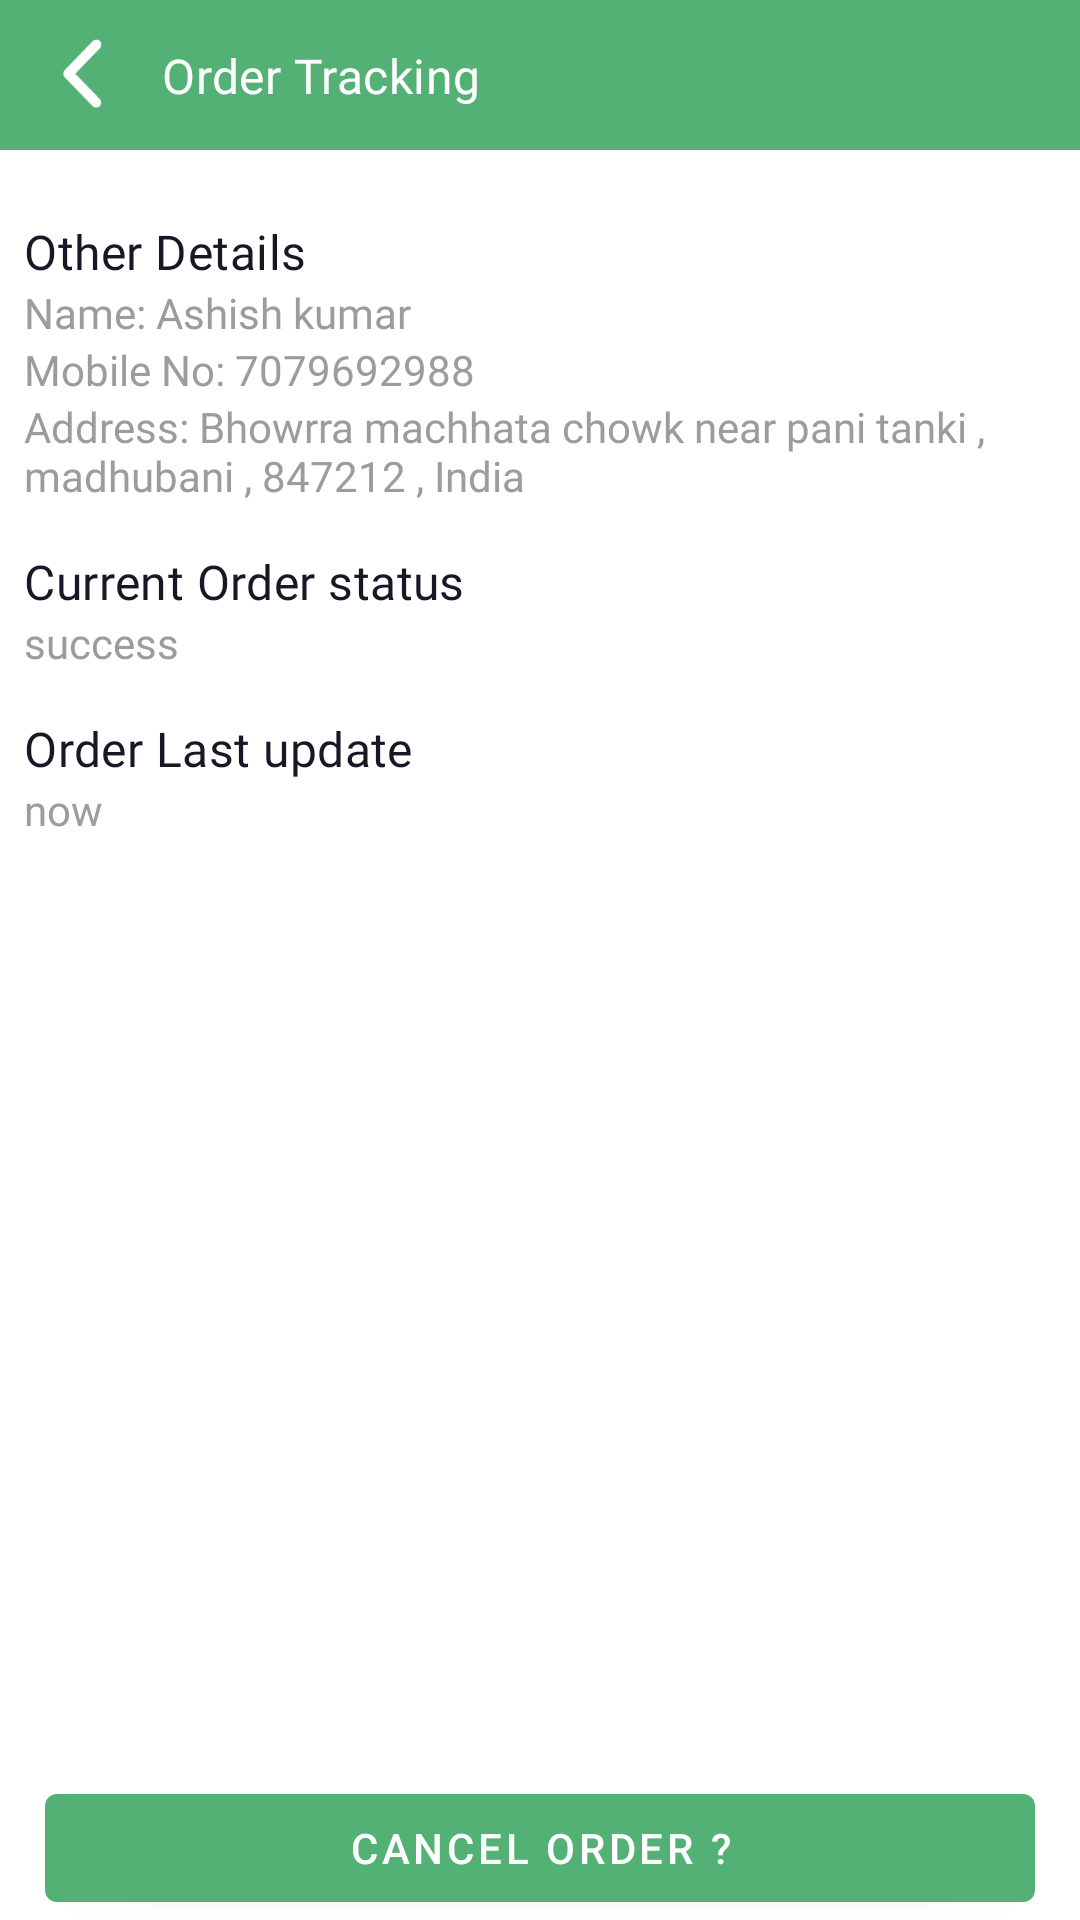

Icon click points for this 1080*1920 phone screenshot, format (x=x, y=y):
back arrow: (x=82, y=73)
